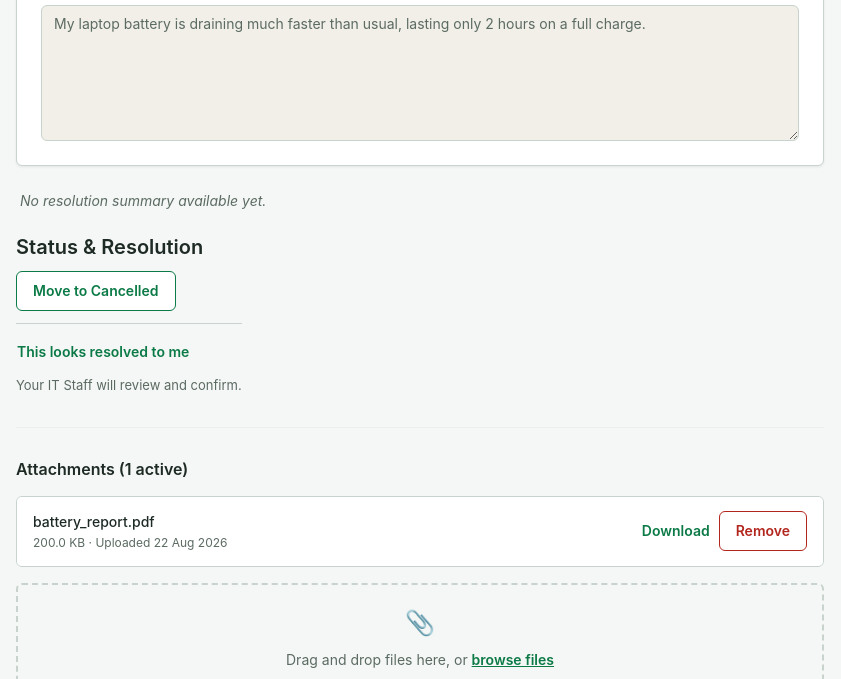
Test: FR-08/BR-08 — "This looks resolved to me" advisory confirmation (ui-spec §5) › records the confirmation, keeps the formal status untouched, and swaps in the note
(page scrolled)
Click the button with test id "requester-confirmation-button": (103, 352) [16, 332, 190, 372]
(page scrolled)
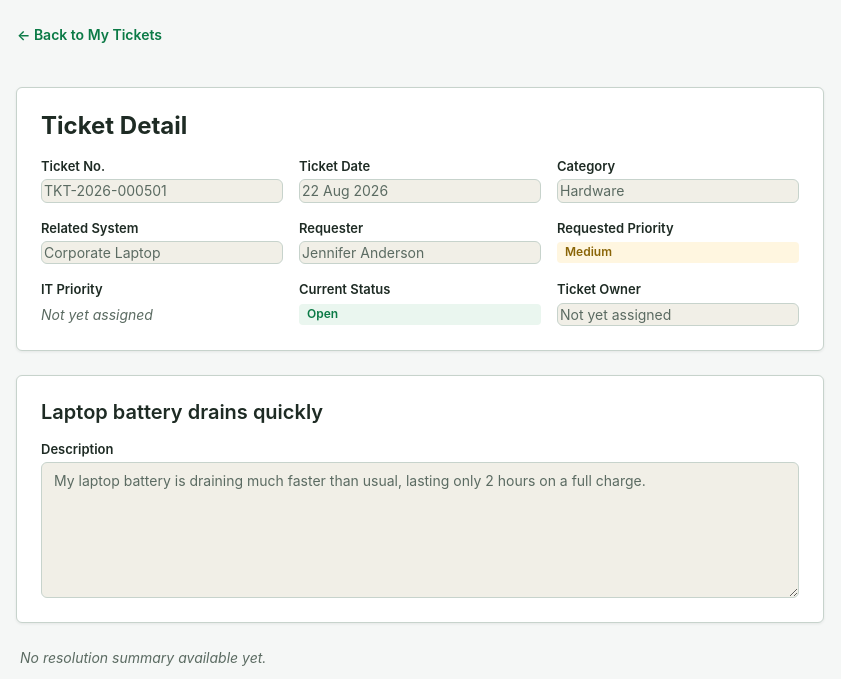
Expected: the text "Open" is shown, [299, 304, 541, 325]
Expected: the button with test id "requester-confirmation-button" is gone
